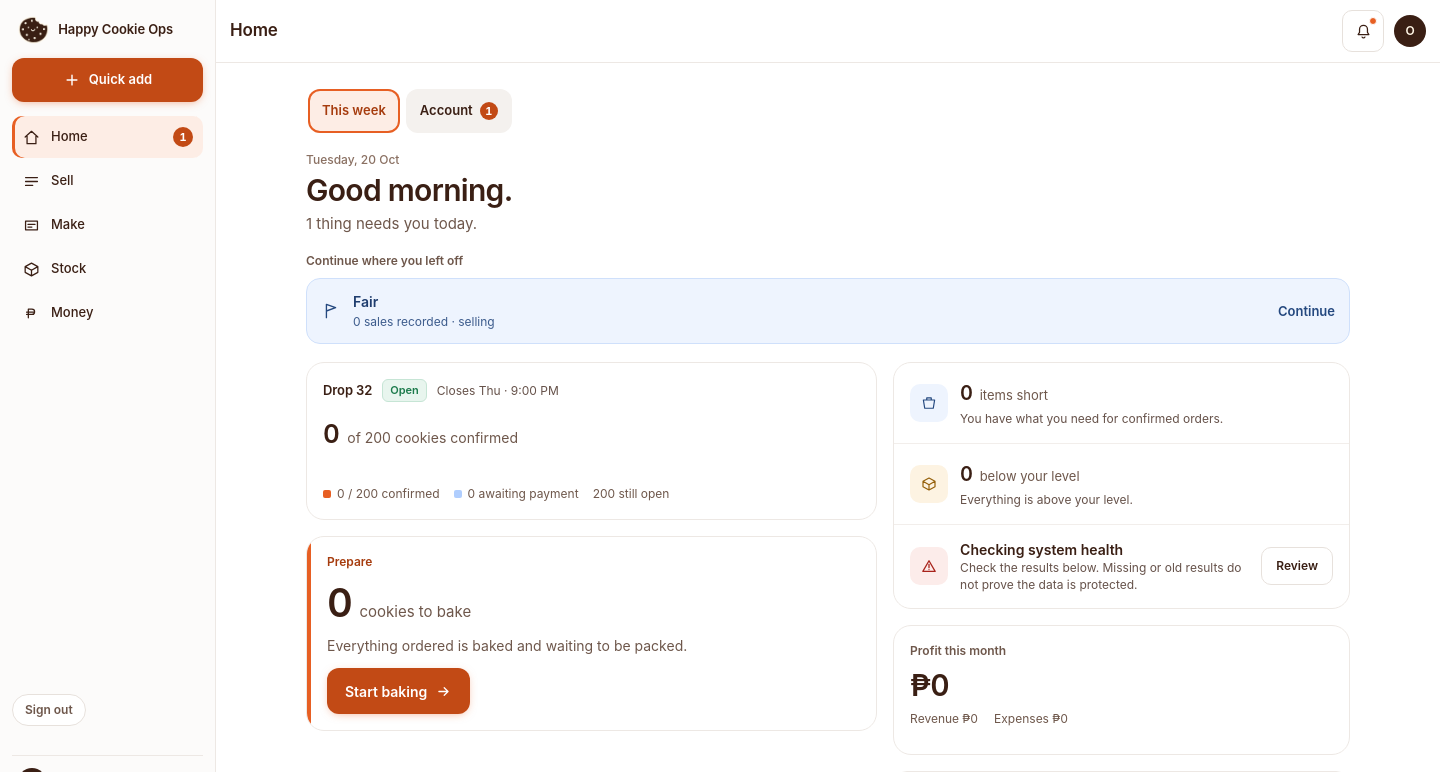
Scenario: the deliberate sign-out in the live gate (A3) › with an event open on the phone and the server still answering, says what signing out costs a stall
Step 1. Click the button "Sign out" → (49,710), box [12,694,86,726]
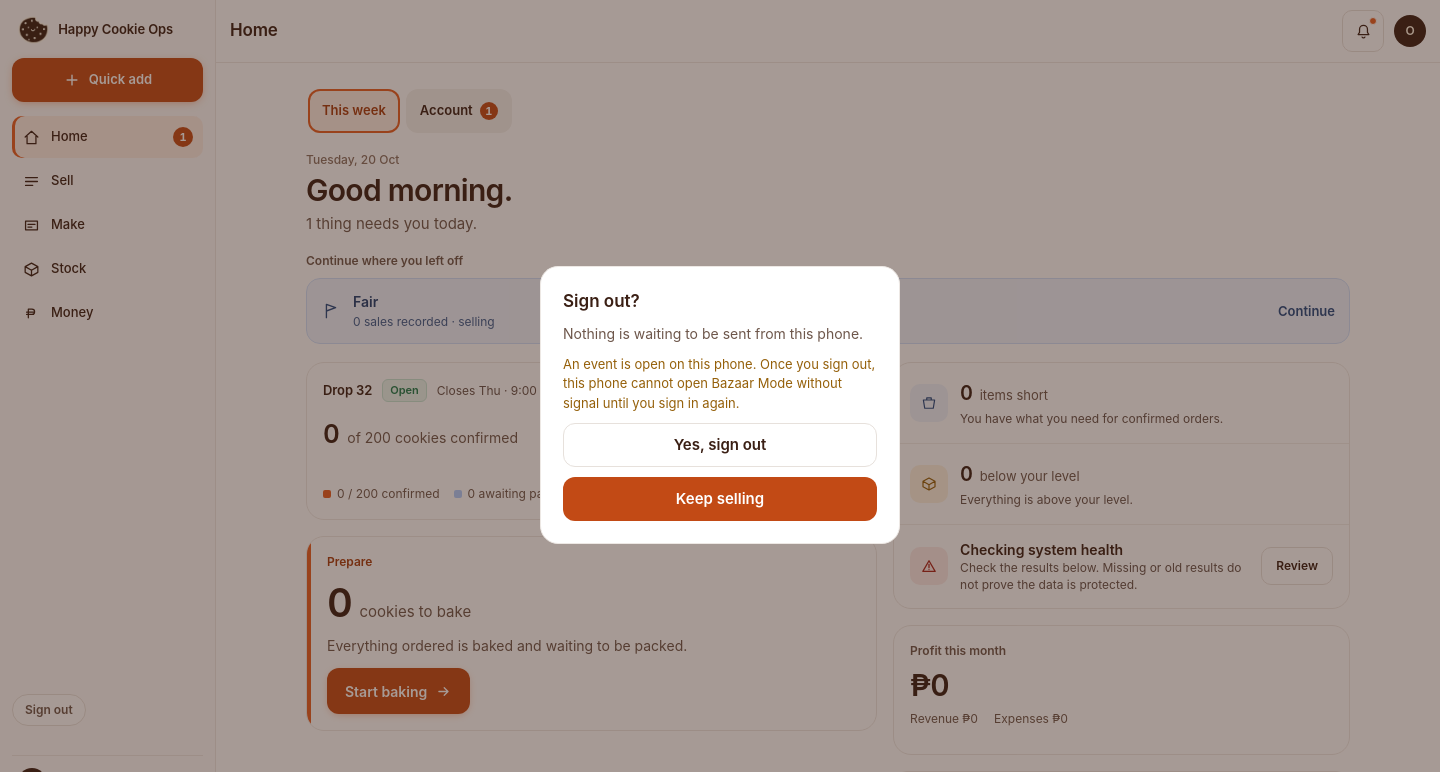
Expected: the dialog shows "An event is open on this phone. Once you sign out, this phone cannot open Bazaar Mode without signal until you sign in again.", [563,356,875,411]
